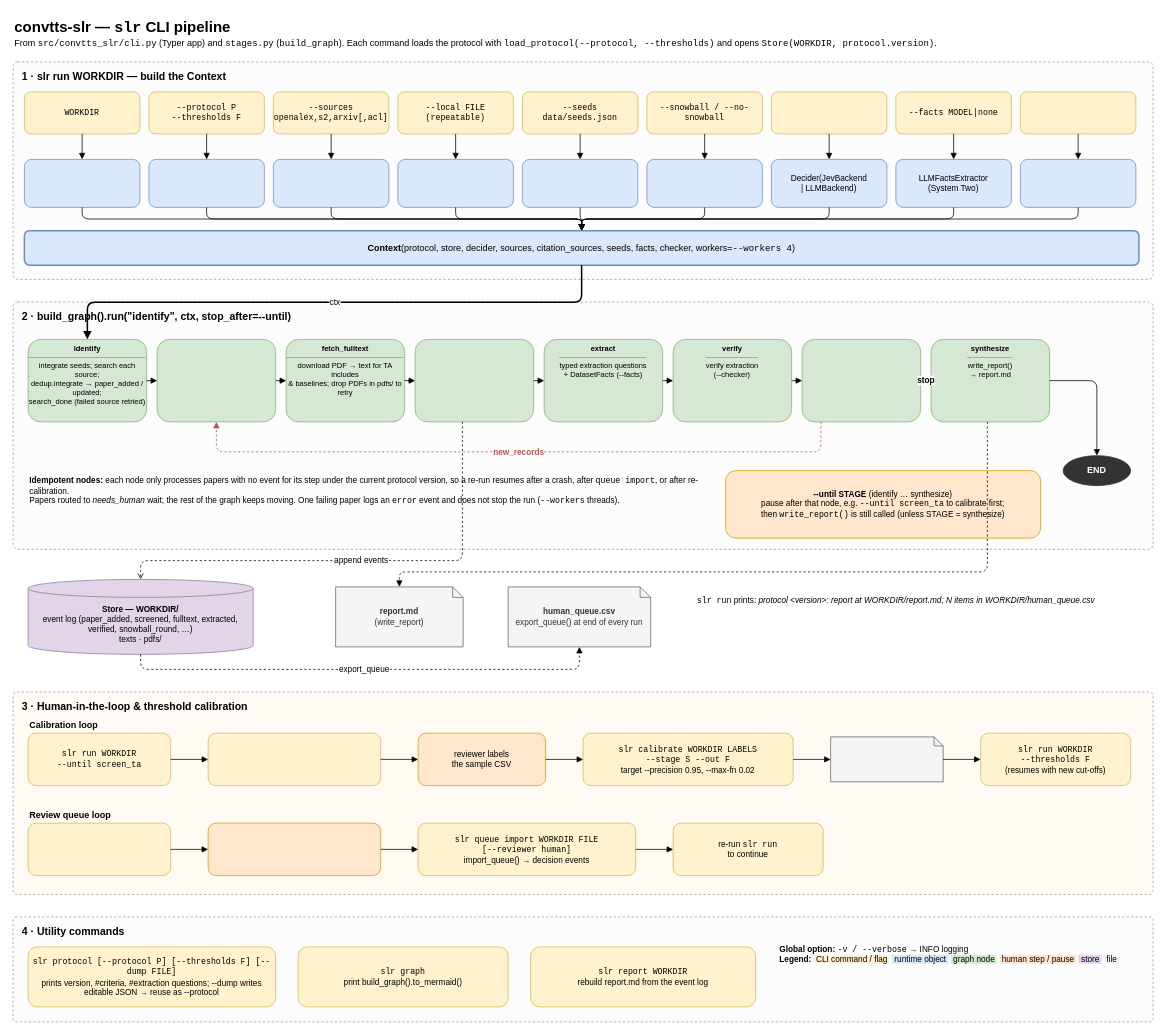
The diagram is 1166 pixels wide and 1035 high, and some of its shapes have lost their labels. Each missing label, with the centre of its shape:
--backend jev|llm --model M: point 829,112
--checker MODEL|none: point 1078,112
citation sources [OpenAlex, S2] or []: point 704,183
Decider(LLMBackend) independent checker: point 1078,183
load_protocol() + apply_thresholds() → Protocol: point 206,183
LocalSource("seeds") → seed papers: point 580,183
LocalSource(file) e.g. IEEE Xplore CSV: point 455,183
OpenAlex · SemanticScholar arXiv · ACL Anthology: point 331,183
reviewer decides needs_human items in CSV: point 294,849
screen_ft full-text screening of TA includes with text: point 474,380
screen_ta title/abstract screening via Decider; IC5 year rule is deterministic: point 216,380
slr queue export WORKDIR FILE (or human_queue.csv): point 99,849
slr sample WORKDIR FILE --stage S [--n 80] export_calibration_sample(): point 294,759
snowball backward + forward citations of final includes; ≤ snowball_max_rounds: point 861,380
Store(workdir, version) append-only event log: point 82,183
thresholds.json (merged per stage): point 886,759
